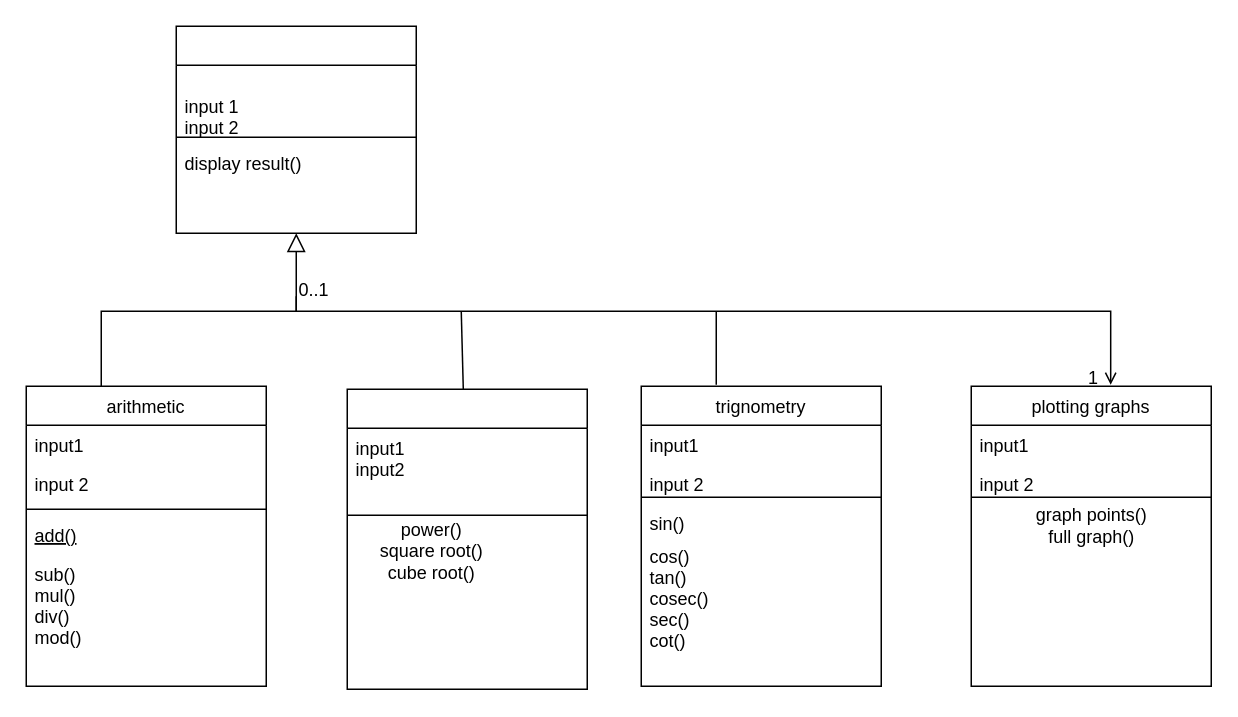
This 1238x717 diagram has some shape labels left out. Here are the shapes that lost their labels. From the top down, the box of each, then its label:
(175, 25, 416, 233): calculator
(346, 388, 587, 689): exponential
